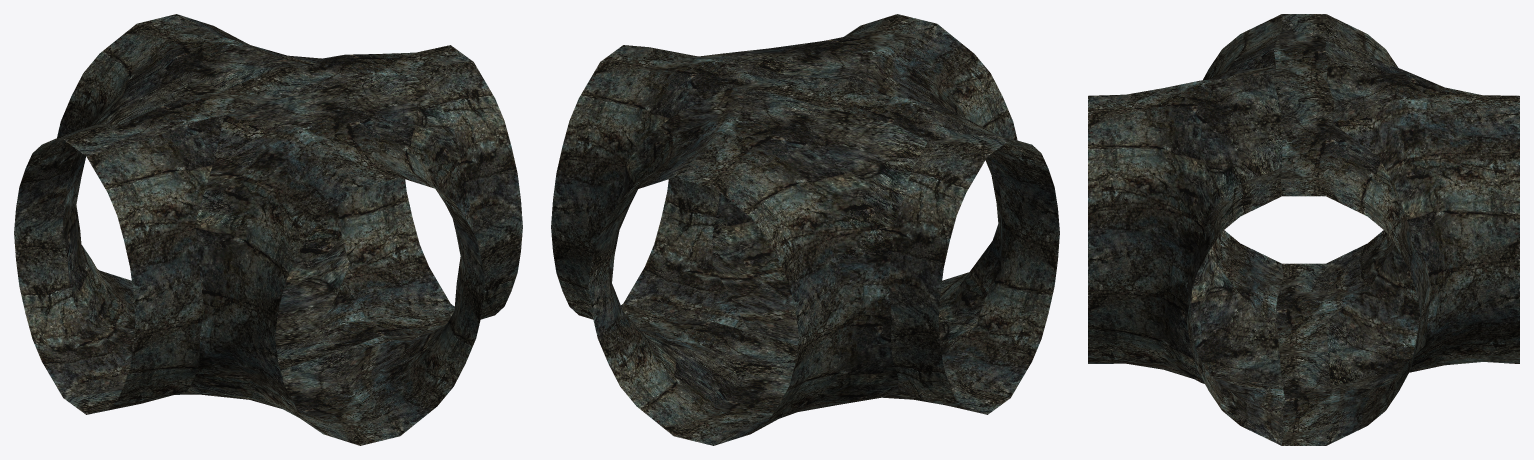
File: tunnel_theta_4way.dae
3 views of the same model, side by side, from view 1: azimuth 30°, elevation 25°; view 2: azimuth 150°, elevation 25°; view 3: azimuth 270°, elevation 25° (orthographic). The views are drawn at different scales.
Visible parts, largest first — view 1: polySurface1; view 2: polySurface1; view 3: polySurface1.
Boxes of the visible parts, x1,y1,x2,y2 form: polySurface1: (14, 14, 522, 445); polySurface1: (551, 14, 1059, 445); polySurface1: (1088, 14, 1519, 445).
Bounding box in the file's own units: 8 × 5.53 × 8.
